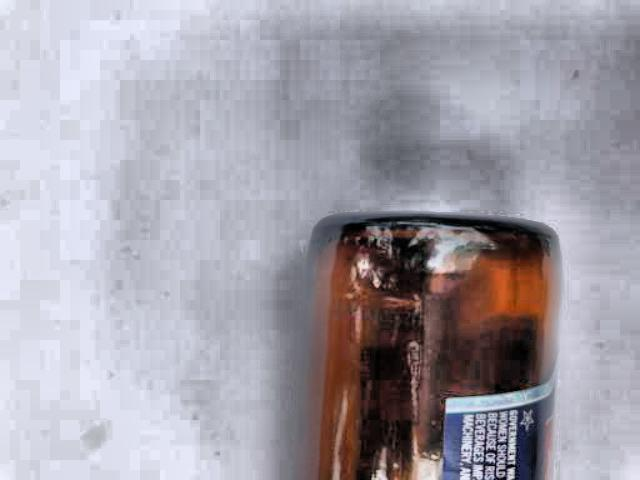Bottles: (284, 182, 581, 480)
